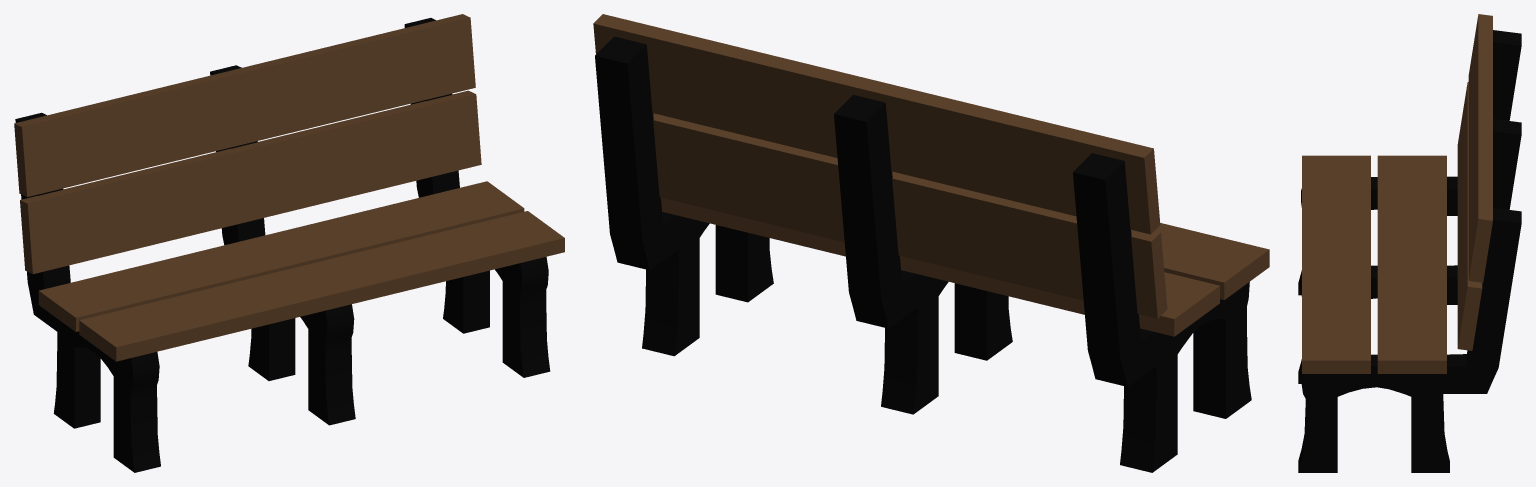
Rendered from Bench.fbx.
The picture shows the model from 3 angles, left to right: view 1: azimuth 30°, elevation 25°; view 2: azimuth 150°, elevation 25°; view 3: azimuth 270°, elevation 25°; orthographic projection. The views are drawn at different scales.
Parts seen in each view (by area): view 1: Cube.002, Cube.004; view 2: Cube.002, Cube.004; view 3: Cube.002, Cube.004.
Part boxes in pixels (x1=…): Cube.002: x1=14, y1=14, x2=564, y2=361; Cube.004: x1=15, y1=18, x2=550, y2=472; Cube.002: x1=593, y1=14, x2=1269, y2=336; Cube.004: x1=595, y1=36, x2=1251, y2=472; Cube.002: x1=1302, y1=14, x2=1492, y2=373; Cube.004: x1=1298, y1=30, x2=1521, y2=472.
Bounding box in the file's own units: 816 × 486 × 376.
